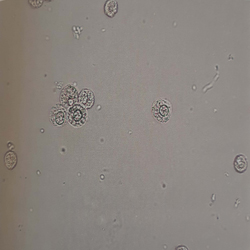Bacteria: (202, 62, 225, 95)
Crystal: (69, 24, 88, 39)
WBC: (64, 103, 93, 129), (151, 95, 173, 128), (2, 146, 25, 175), (56, 80, 79, 107), (74, 87, 100, 109), (231, 151, 248, 179), (97, 1, 124, 18), (52, 103, 66, 129)
